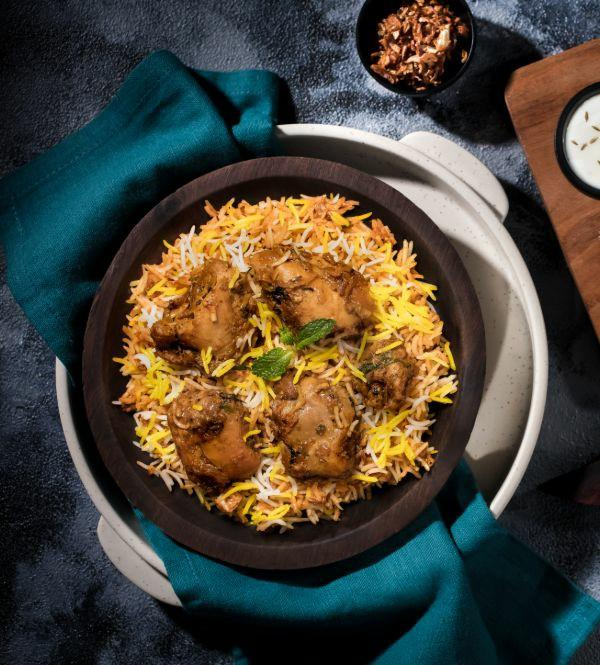Biryani: (116, 189, 457, 533)
